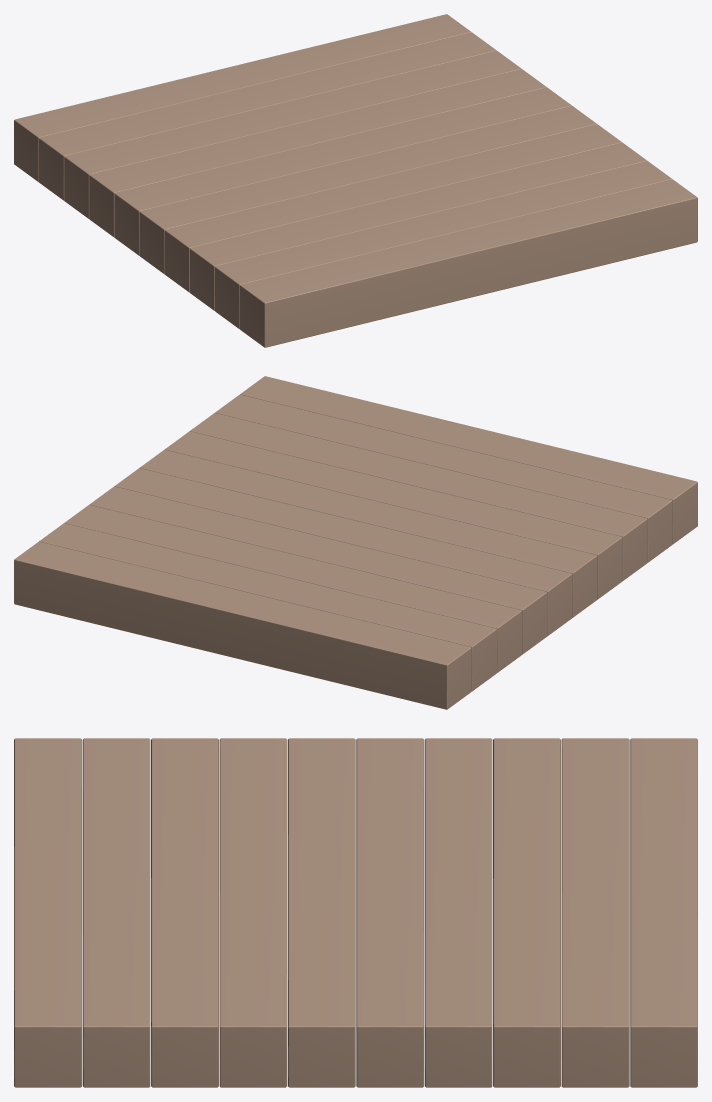
Rendered from Floor_16.glb.
The picture shows the model from 3 angles, top to bottom: view 1: azimuth 30°, elevation 25°; view 2: azimuth 150°, elevation 25°; view 3: azimuth 270°, elevation 25°; orthographic projection. The views are drawn at different scales.
Visible parts, largest first — view 1: Floor_16; view 2: Floor_16; view 3: Floor_16.
Boxes of the visible parts, x1,y1,x2,y2 form: Floor_16: [14, 14, 697, 347]; Floor_16: [14, 376, 697, 709]; Floor_16: [14, 738, 697, 1087].
Bounding box in the file's own units: 5 × 0.5 × 5.01.
Materials: 1 (1 with a texture image).
